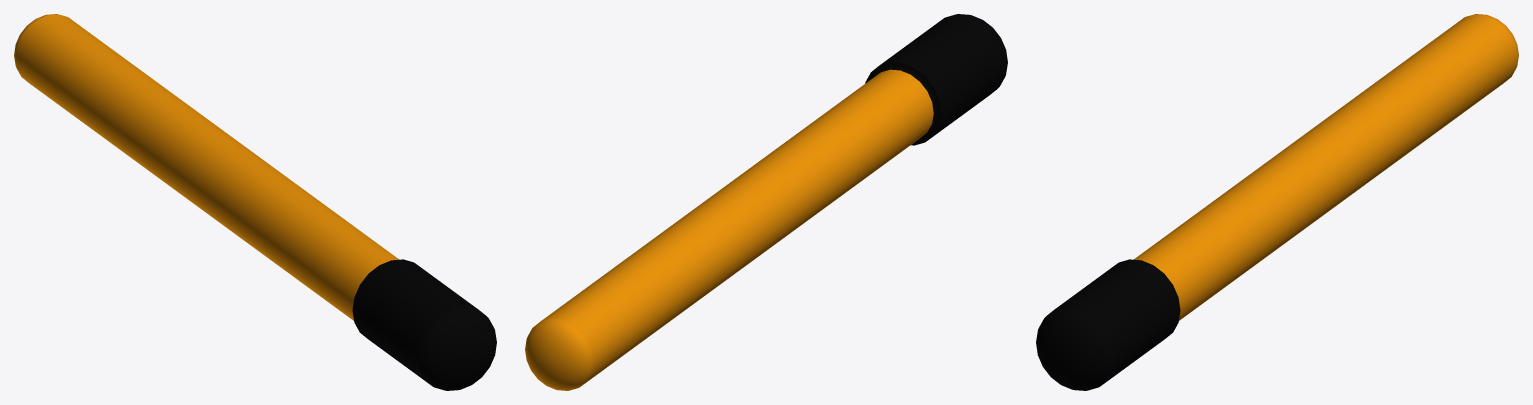
File: Dart on Origin.fbx
3 renders of one model, left to right at view 1: azimuth 30°, elevation 25°; view 2: azimuth 150°, elevation 25°; view 3: azimuth 330°, elevation 25°, orthographic.
Parts seen in each view (by area): view 1: polySurface19; view 2: polySurface19; view 3: polySurface19.
Part boxes in pixels (x1,y1,x2,y2): polySurface19: (14,14,496,390); polySurface19: (525,14,1007,390); polySurface19: (1036,14,1518,390).
Bounding box in the file's own units: 1.54 × 1.54 × 14.75.
